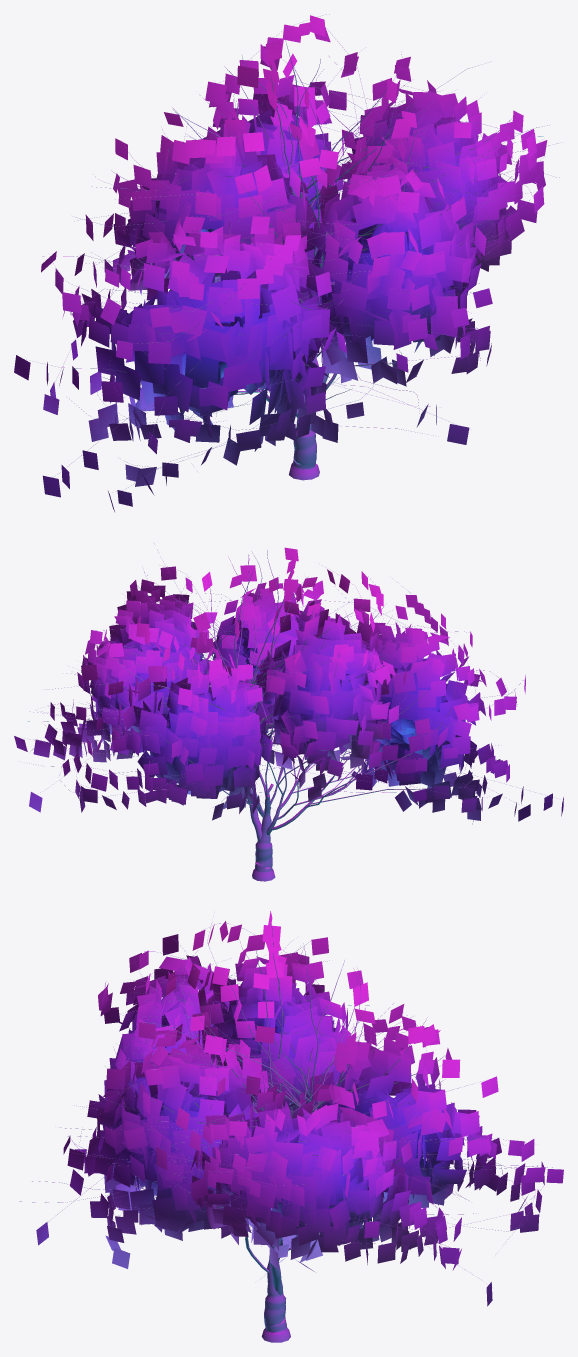
Rendered from tree_birch_s1_a60_cut50.fbx.
The picture shows the model from 3 angles, top to bottom: view 1: azimuth 30°, elevation 25°; view 2: azimuth 150°, elevation 25°; view 3: azimuth 270°, elevation 25°; orthographic projection. The views are drawn at different scales.
Parts seen in each view (by area): view 1: tree_birch_s1_a60_cut50_leaves, tree_birch_s1_a60_cut50_branches; view 2: tree_birch_s1_a60_cut50_leaves, tree_birch_s1_a60_cut50_branches; view 3: tree_birch_s1_a60_cut50_leaves, tree_birch_s1_a60_cut50_branches.
Boxes of the visible parts, x1,y1,x2,y2 form: tree_birch_s1_a60_cut50_leaves: (14,15,547,511); tree_birch_s1_a60_cut50_branches: (26,14,559,491); tree_birch_s1_a60_cut50_leaves: (14,547,563,824); tree_birch_s1_a60_cut50_branches: (28,543,551,881); tree_birch_s1_a60_cut50_leaves: (36,911,563,1306); tree_birch_s1_a60_cut50_branches: (19,915,552,1342).
Size of the model in its own units: 20.33 by 15.28 by 18.66.
